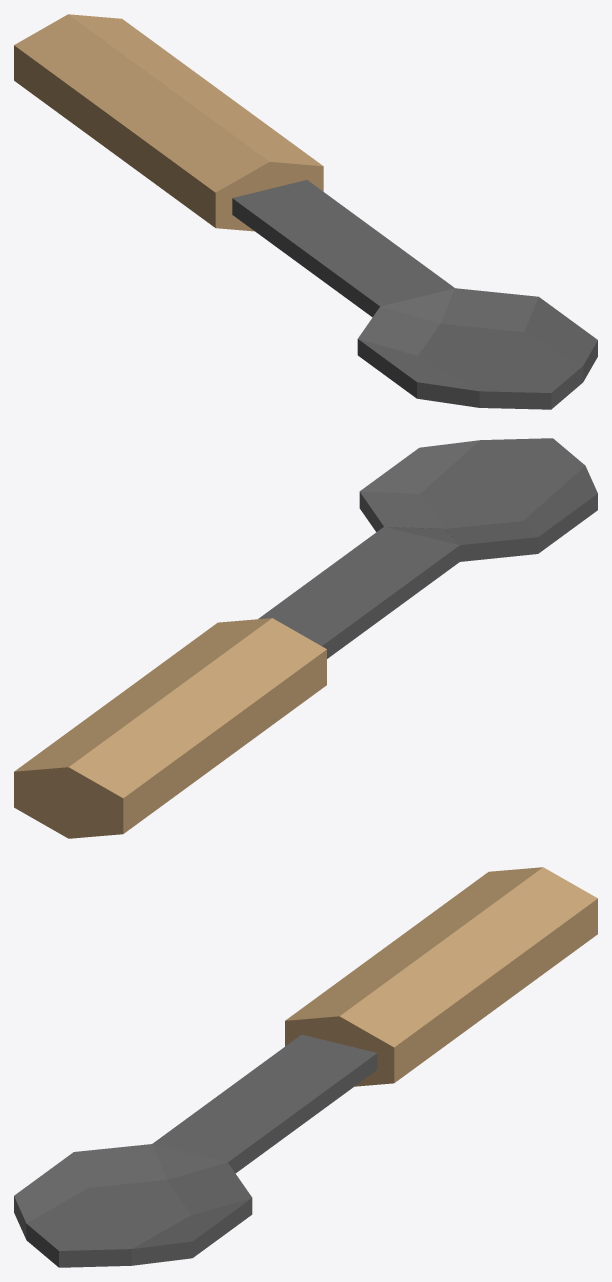
Rendered from Spoon.fbx.
The picture shows the model from 3 angles, top to bottom: view 1: azimuth 30°, elevation 25°; view 2: azimuth 150°, elevation 25°; view 3: azimuth 330°, elevation 25°; orthographic projection.
Visible parts, largest first — view 1: Lyzka; view 2: Lyzka; view 3: Lyzka.
Boxes of the visible parts, x1,y1,x2,y2 form: Lyzka: [14, 14, 597, 409]; Lyzka: [14, 438, 597, 838]; Lyzka: [14, 867, 597, 1267].
Bounding box in the file's own units: 5.64 × 2.13 × 26.26.
1 material, 1 textured.
